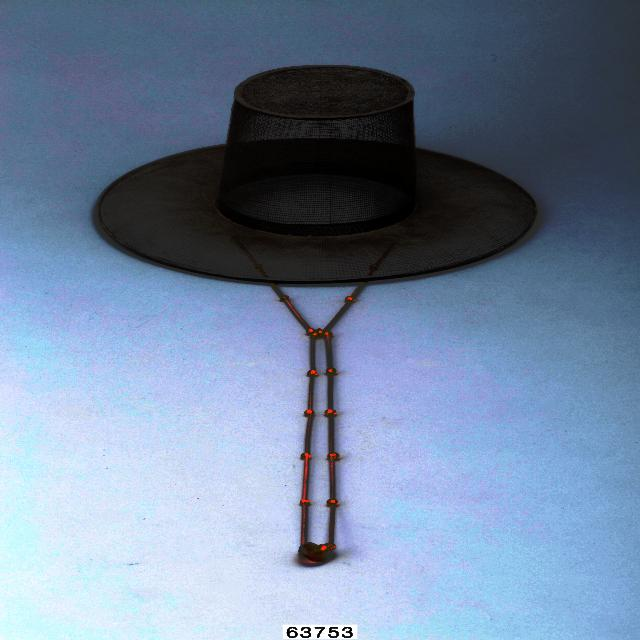TOPI: (87, 61, 550, 288)
